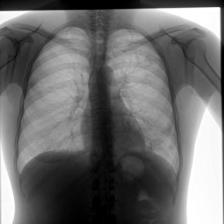tuberculosis: (13, 22, 185, 212)
